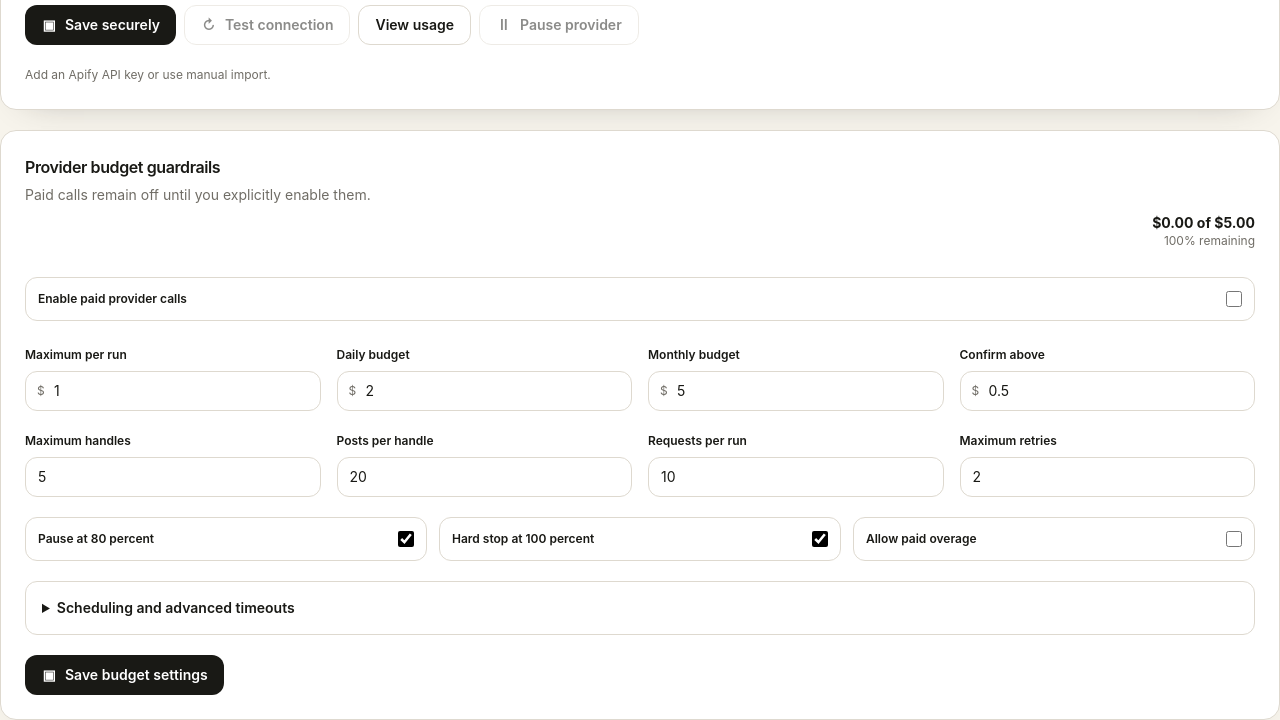
it: Social Intelligence Agent › exposes safe schedule and timeout controls in provider settings
(page scrolled)
expect the heading "Provider budget guardrails" is shown: met, box top-left (25, 156), bottom-right (220, 176)
Click the heading "Scheduling and advanced timeouts" at (176, 607), box top-left (57, 598), bottom-right (295, 616)
(page scrolled)
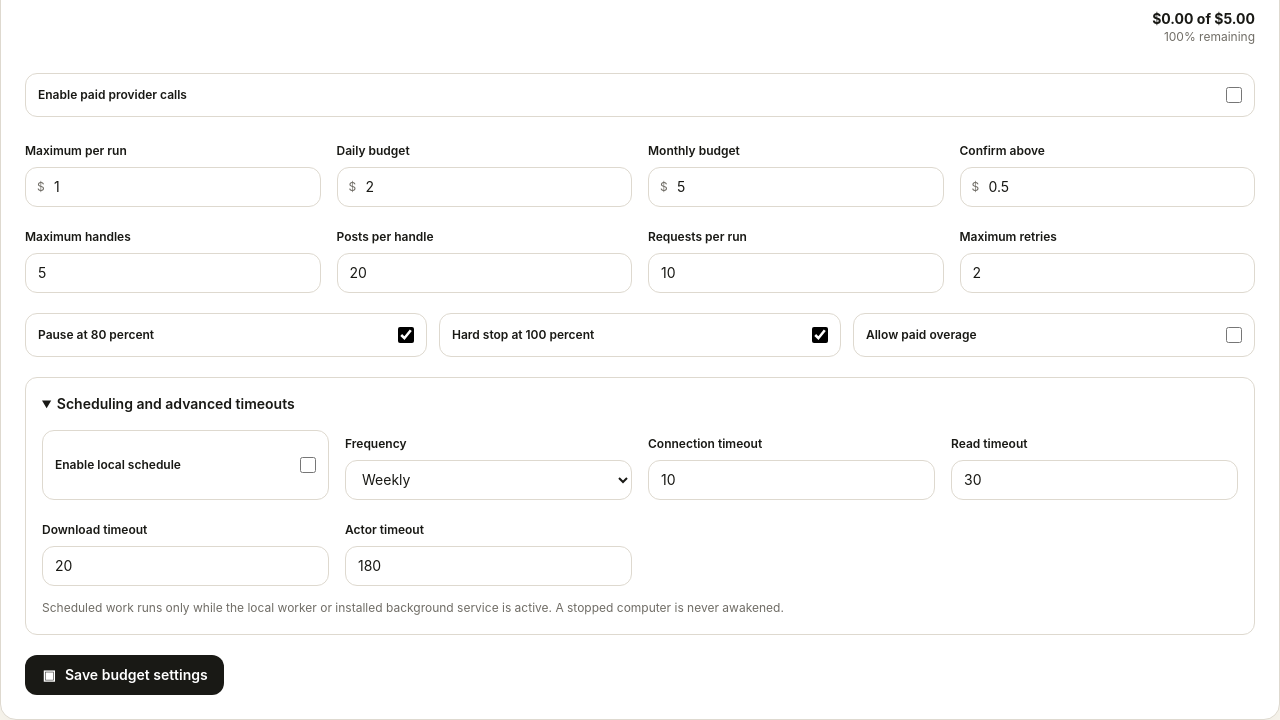
expect the checkbox labelled "Enable local schedule" is not checked: met, box top-left (300, 456), bottom-right (316, 472)
expect the text "Read timeout" is shown: met, box top-left (951, 436), bottom-right (1028, 450)
expect the text "Download timeout" is shown: met, box top-left (42, 522), bottom-right (147, 536)
